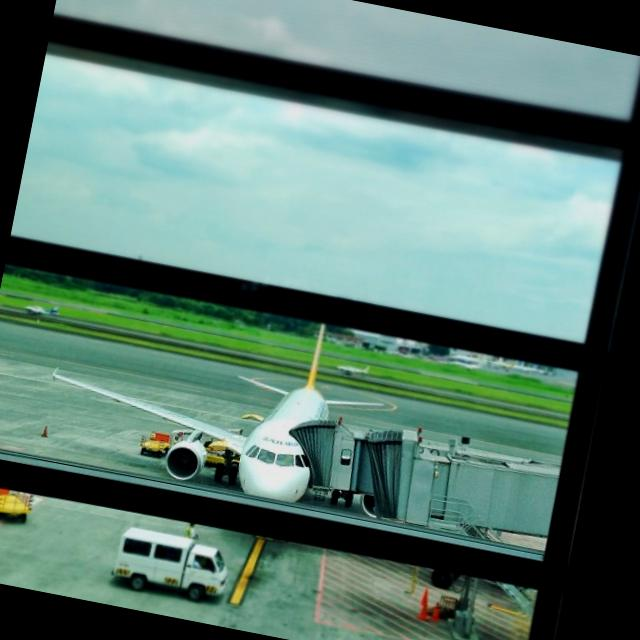Vehicle: (106, 524, 238, 610), (0, 484, 33, 526), (138, 430, 174, 460)
